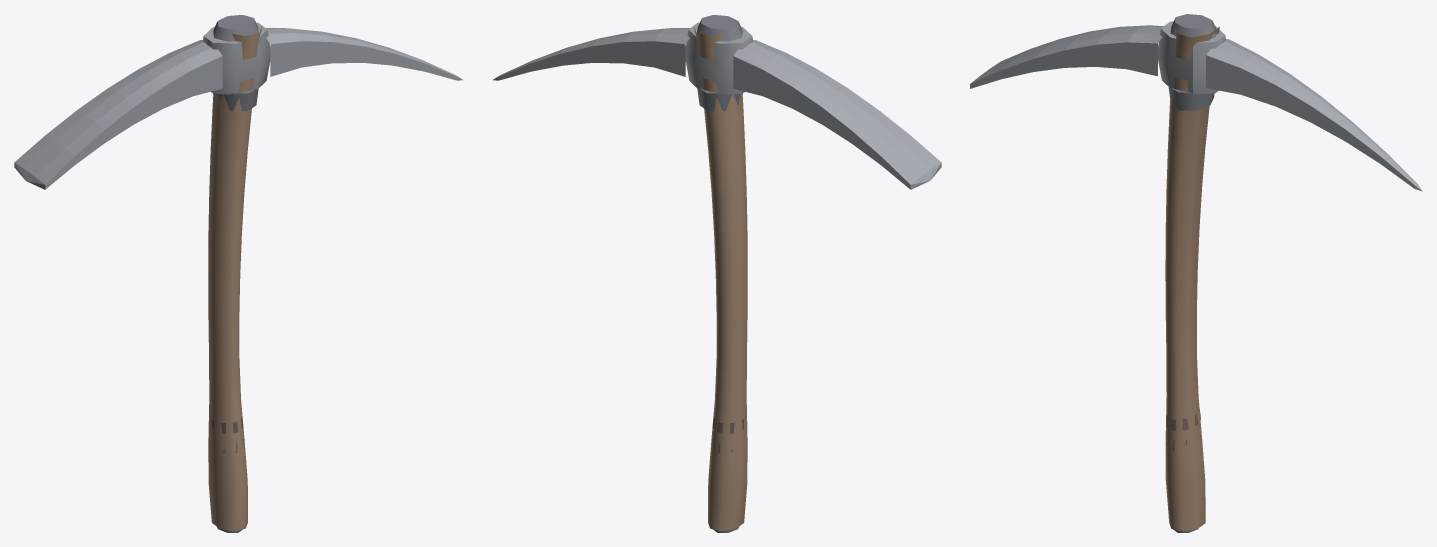
Rendered from pickaxe_iron_lowmidpoly.gltf.
The picture shows the model from 3 angles, left to right: view 1: azimuth 30°, elevation 25°; view 2: azimuth 150°, elevation 25°; view 3: azimuth 330°, elevation 25°; orthographic projection.
Parts seen in each view (by area): view 1: Wooden_Handle, Pickaxe_Back_Blade, Pickaxe_Front_Spike, Pickaxe_Socket, Iron_Ferrule_Collar; view 2: Wooden_Handle, Pickaxe_Back_Blade, Pickaxe_Front_Spike, Pickaxe_Socket, Iron_Ferrule_Collar; view 3: Wooden_Handle, Pickaxe_Front_Spike, Pickaxe_Back_Blade, Pickaxe_Socket, Iron_Ferrule_Collar.
Part boxes in pixels (bbox=[...]): Wooden_Handle: bbox=[208, 26, 261, 531]; Pickaxe_Back_Blade: bbox=[14, 40, 222, 189]; Pickaxe_Front_Spike: bbox=[266, 28, 462, 80]; Pickaxe_Socket: bbox=[202, 22, 270, 94]; Iron_Ferrule_Collar: bbox=[213, 15, 258, 111]; Wooden_Handle: bbox=[694, 26, 747, 531]; Pickaxe_Back_Blade: bbox=[733, 40, 941, 189]; Pickaxe_Front_Spike: bbox=[493, 28, 689, 80]; Pickaxe_Socket: bbox=[685, 22, 753, 94]; Iron_Ferrule_Collar: bbox=[697, 15, 742, 111]; Wooden_Handle: bbox=[1165, 26, 1219, 531]; Pickaxe_Front_Spike: bbox=[1206, 39, 1422, 191]; Pickaxe_Back_Blade: bbox=[970, 25, 1163, 88]; Pickaxe_Socket: bbox=[1158, 21, 1225, 94]; Iron_Ferrule_Collar: bbox=[1168, 14, 1215, 110].
Bounding box in the file's own units: 1.56 × 1.71 × 0.19.
